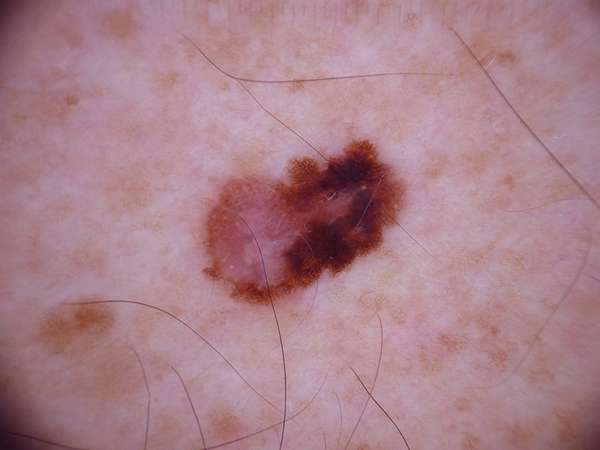Detected Lesion: (198, 131, 405, 312)
